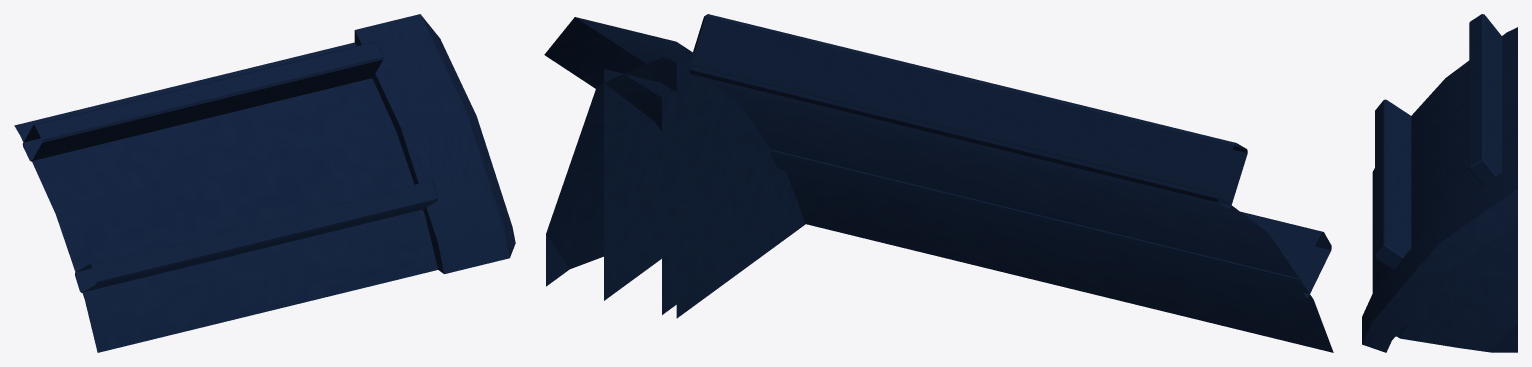
The model's file is cell_70.obj.
The picture shows the model from 3 angles, left to right: view 1: azimuth 30°, elevation 25°; view 2: azimuth 150°, elevation 25°; view 3: azimuth 270°, elevation 25°; orthographic projection. The views are drawn at different scales.
Visible parts, largest first — view 1: cell_70; view 2: cell_70; view 3: cell_70.
Boxes of the visible parts, <box> form: cell_70: <box>14,14,515,352</box>; cell_70: <box>544,14,1333,352</box>; cell_70: <box>1362,14,1517,352</box>.
Bounding box in the file's own units: 1 × 0.407 × 0.3637.
